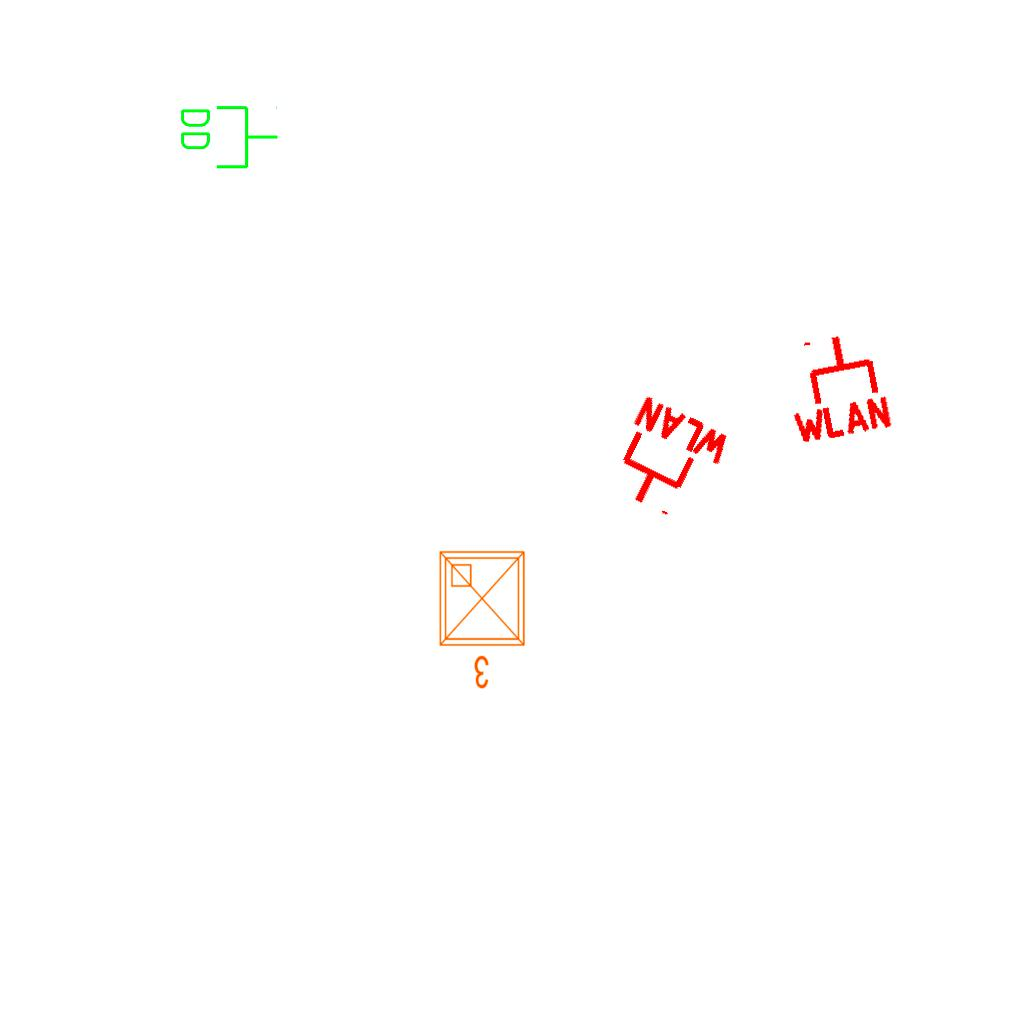Datenanschluss_zweifach: (177, 102, 280, 171)
Einbaudownlights_LED_Konferenzraeume: (432, 544, 536, 694)
WLAN: (597, 392, 738, 532), (774, 324, 897, 448)
